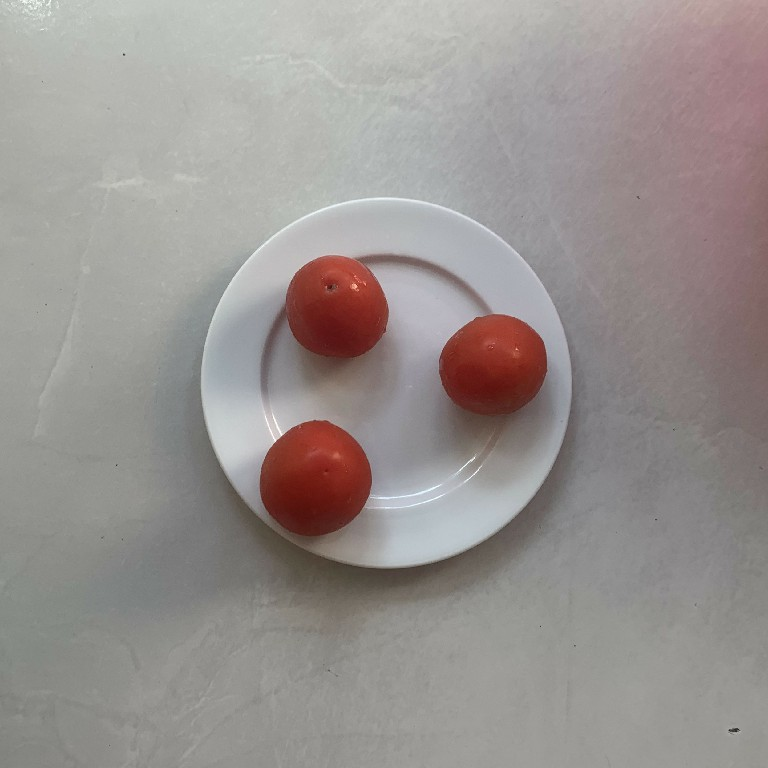OK: (252, 418, 376, 535), (274, 252, 396, 364), (439, 309, 546, 418)
